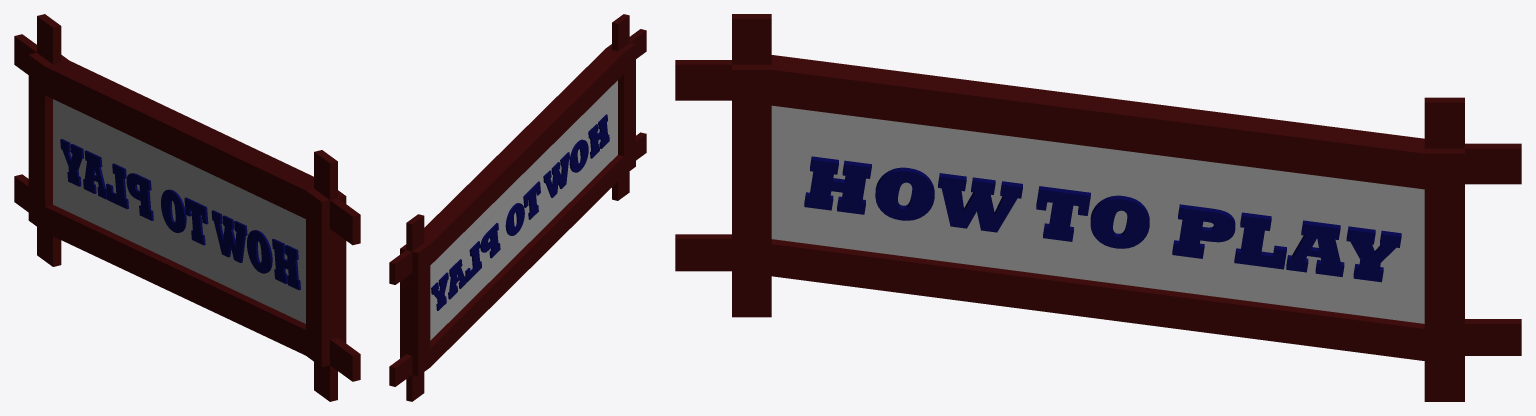
The model's file is howto_sign.fbx.
3 views of the same model, side by side, from view 1: azimuth 30°, elevation 25°; view 2: azimuth 150°, elevation 25°; view 3: azimuth 270°, elevation 25° (orthographic). The views are drawn at different scales.
Visible parts, largest first — view 1: sign_how2; view 2: sign_how2; view 3: sign_how2.
Boxes of the visible parts, x1,y1,x2,y2 form: sign_how2: (14, 14, 360, 401); sign_how2: (389, 14, 646, 401); sign_how2: (675, 14, 1521, 401).
Bounding box in the file's own units: 0.2582 × 3.07 × 6.16.
